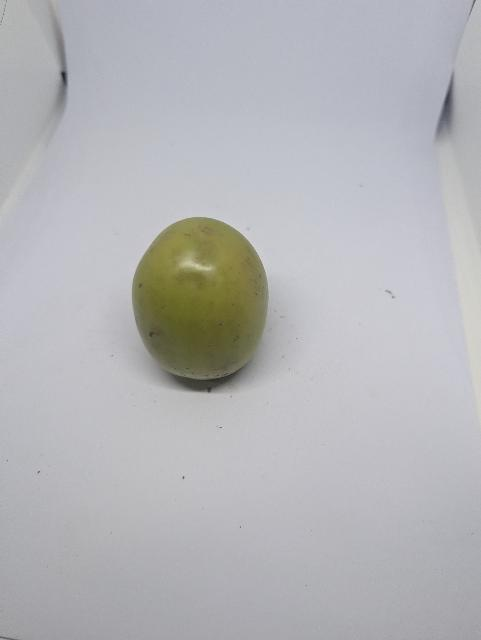green: (129, 213, 274, 383)
